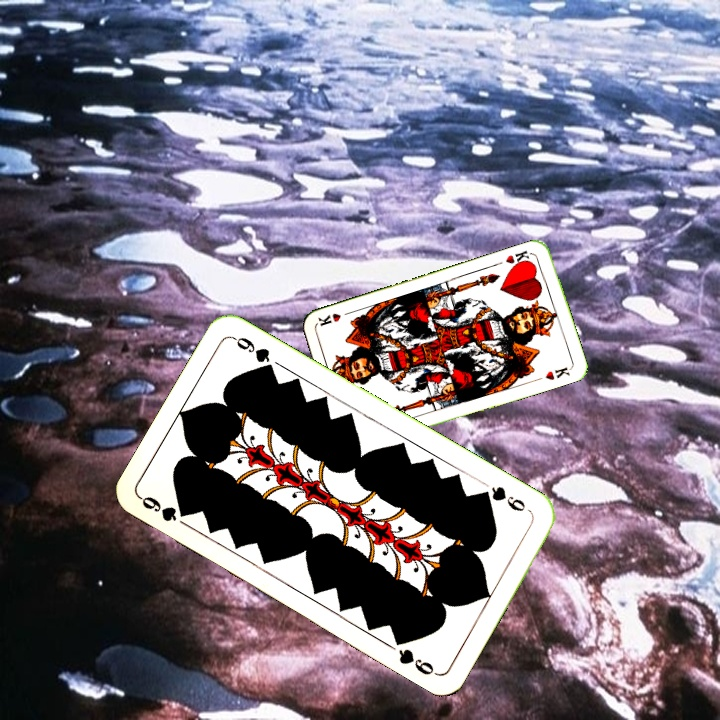G9: (136, 492, 192, 525), (476, 482, 528, 515)
HK: (502, 247, 534, 270)
